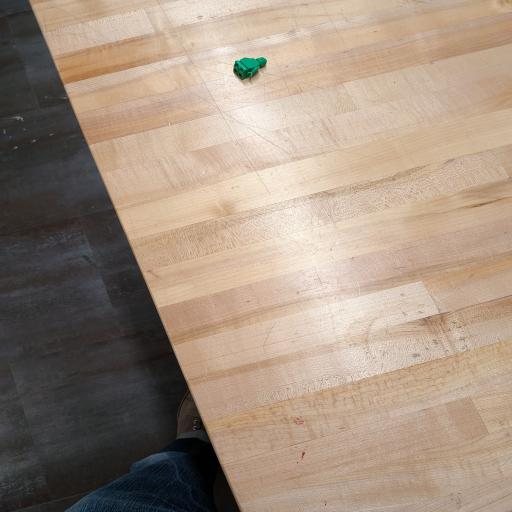Minifig: (234, 58, 266, 79)
